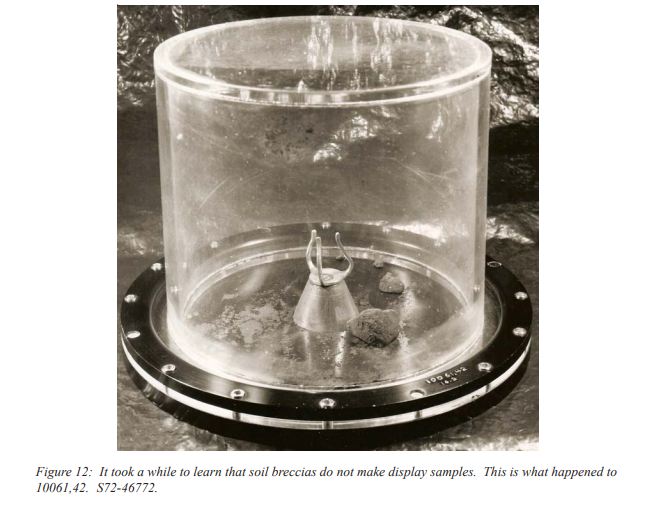Breccia: (335, 305, 418, 347)
